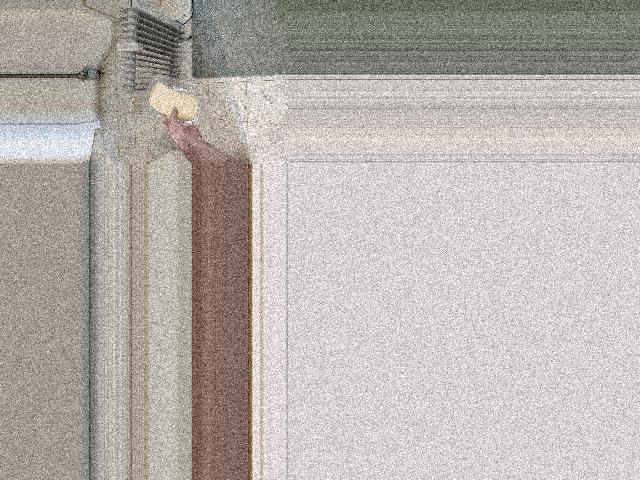cheese: (143, 81, 201, 122)
